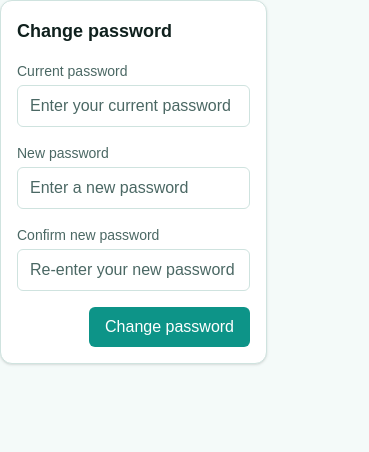
Scenario: ChangePasswordForm › blocks submission client-side when the confirmation does not match
The width and height of the screenshot is (369, 452).
Type "Current1!" into the password field labelled "Current password". click: (134, 106)
box: [17,85,250,127]
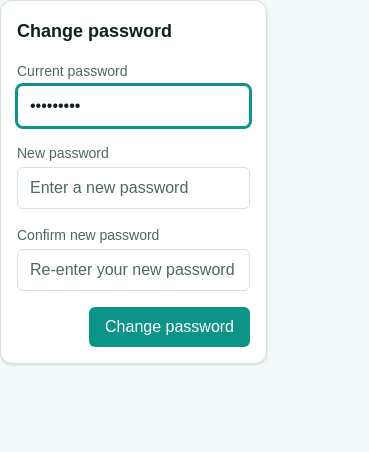
Type "Newpass1!" into the password field labelled "New password". click: (134, 188)
box: [17,167,250,209]
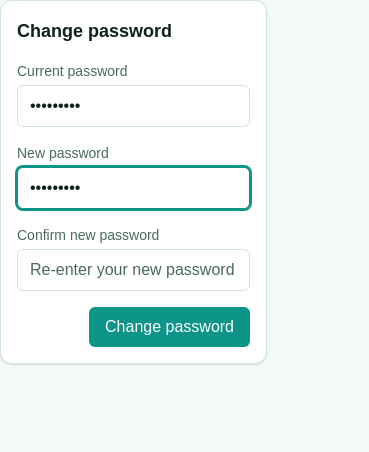
Type "Different1!" into the password field labelled "Confirm new password". click: (134, 270)
box: [17,249,250,291]
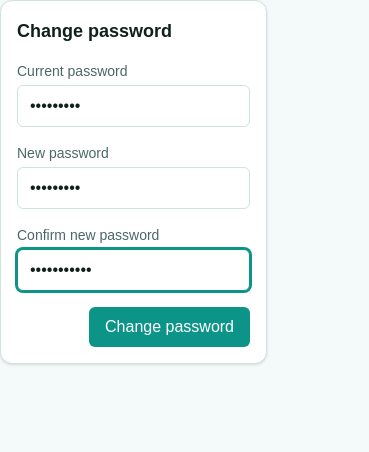
Click the button "Change password". click: (170, 327)
box: [89,307,250,347]
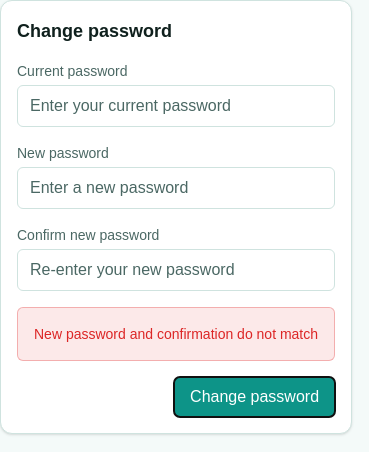
Result: the text "New password and confirmation do not match" is shown at [34,324,318,344]
